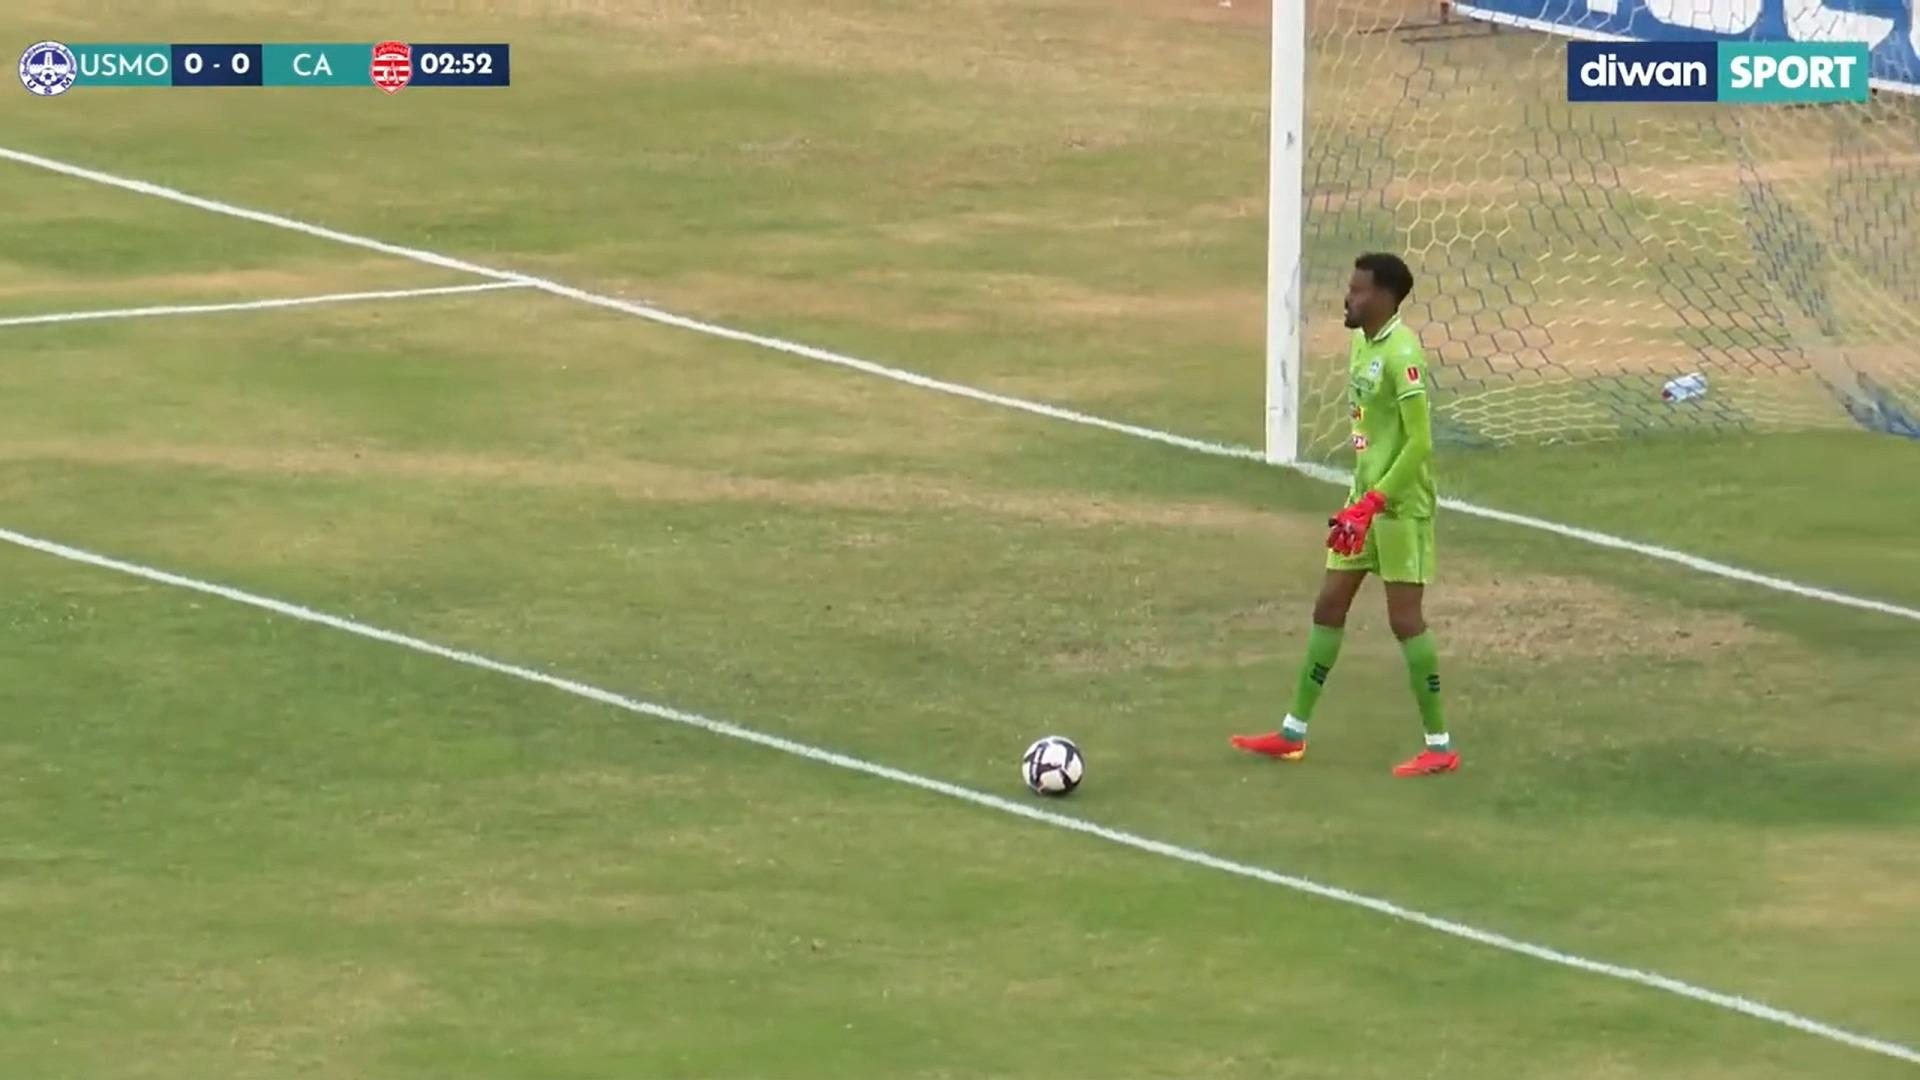ball: (963, 712, 1149, 789)
goalkeeper: (1182, 182, 1532, 837)
